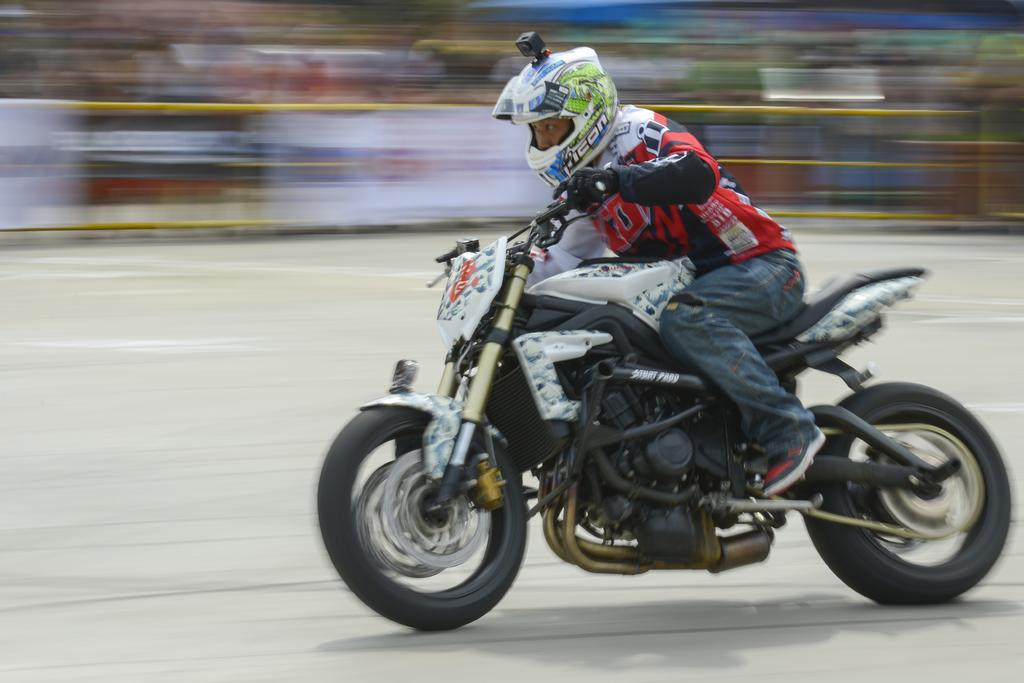helmet: (491, 46, 620, 188)
